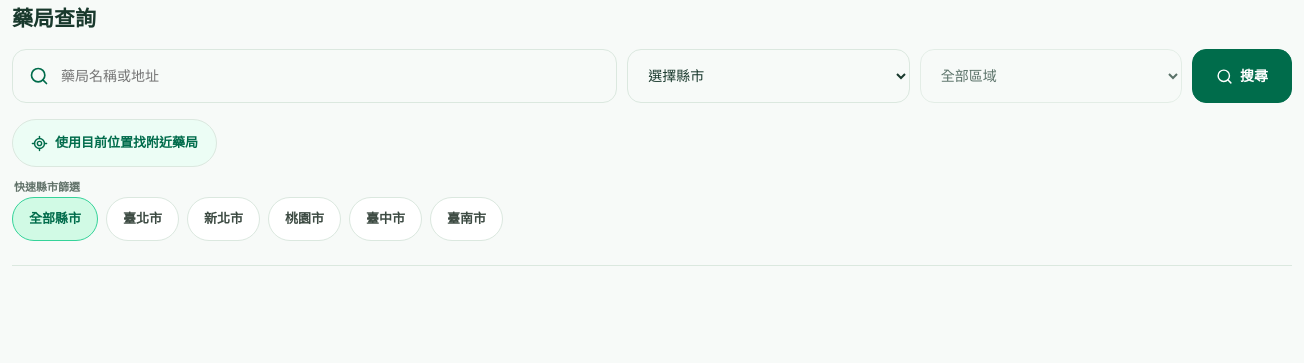
Test: 搜尋面板 › 定位期間切換縣市會取消定位並解除 loading
The width and height of the screenshot is (1304, 363).
Click the button "使用目前位置找附近藥局": click(114, 143) top-left (12, 119), bottom-right (217, 167)
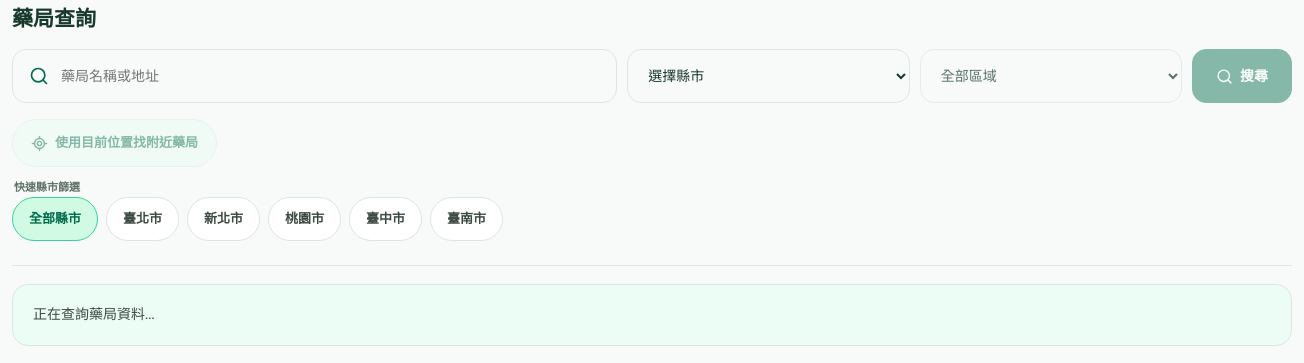
Now the button with aria-label "查詢中…" is disabled, box top-left (1192, 49), bottom-right (1292, 103)
Select "臺北市" in the 1st dropdown named "縣市": (769, 76) top-left (627, 49), bottom-right (910, 103)
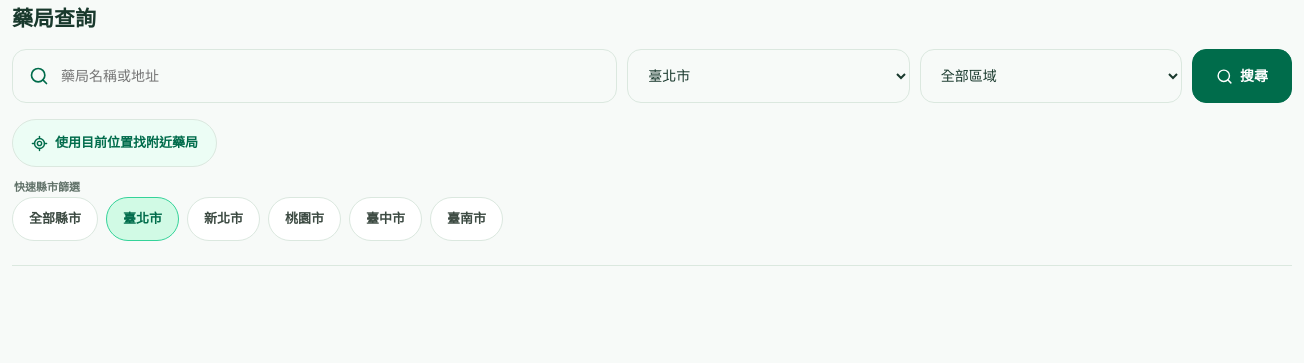
Now the button "搜尋" is enabled, box top-left (1192, 49), bottom-right (1292, 103)
Now the button "使用目前位置找附近藥局" is enabled, box top-left (12, 119), bottom-right (217, 167)
